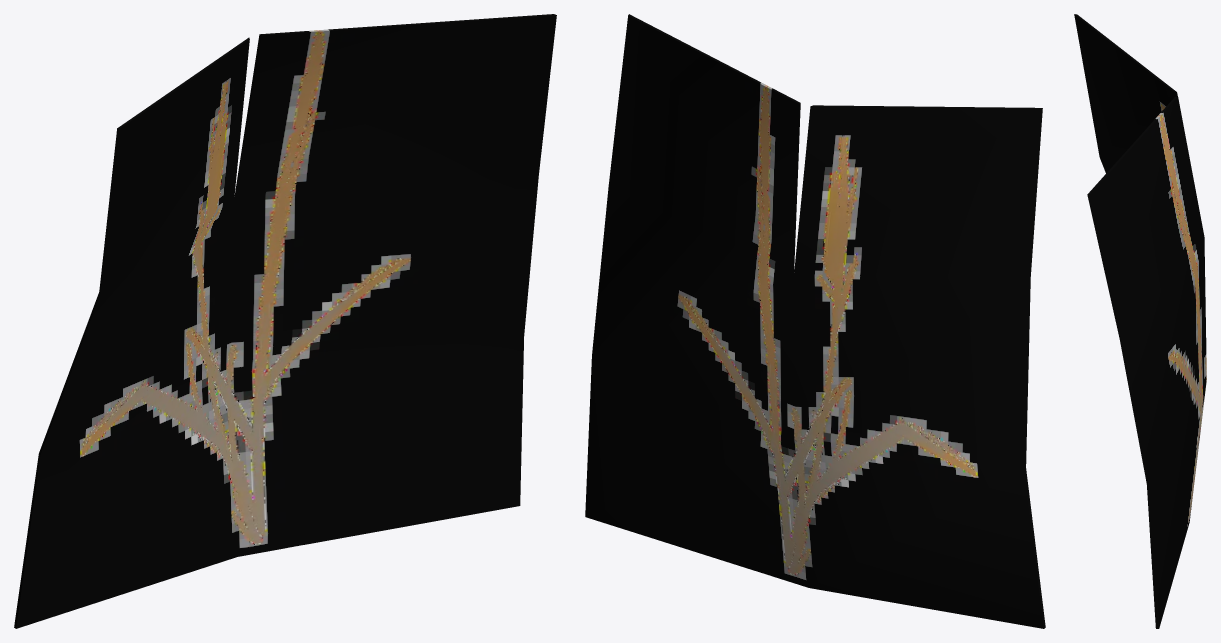
The picture shows the model from 3 angles, left to right: view 1: azimuth 30°, elevation 25°; view 2: azimuth 150°, elevation 25°; view 3: azimuth 270°, elevation 25°; orthographic projection. The views are drawn at different scales.
Parts seen in each view (by area): view 1: body0_model0_lod0_mesh0; view 2: body0_model0_lod0_mesh0; view 3: body0_model0_lod0_mesh0.
Boxes of the visible parts, left/top/right/bottom form: body0_model0_lod0_mesh0: left=14, top=14, right=556, bottom=628; body0_model0_lod0_mesh0: left=585, top=14, right=1045, bottom=628; body0_model0_lod0_mesh0: left=1074, top=14, right=1206, bottom=628.
Size of the model in its own units: 54.56 by 54 by 15.02.
1 material, 1 textured.
